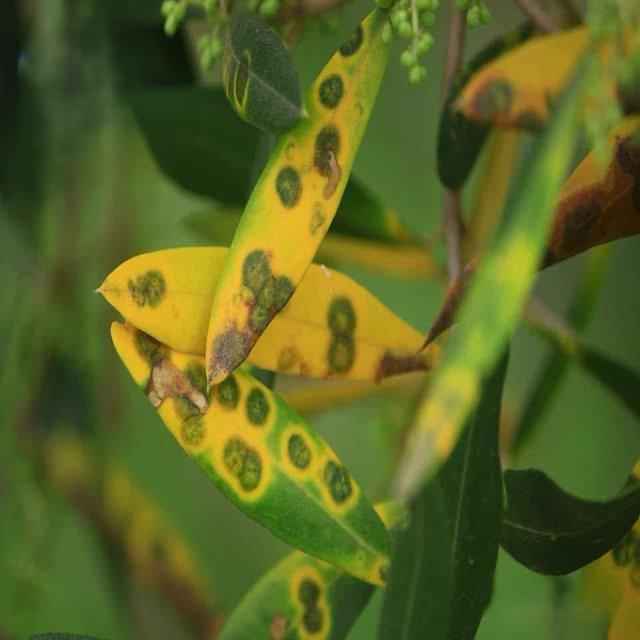OlivePeacockSpot: (110, 321, 383, 586), (206, 6, 393, 378), (248, 265, 440, 382), (96, 246, 228, 354), (220, 561, 374, 639), (224, 8, 302, 133)
